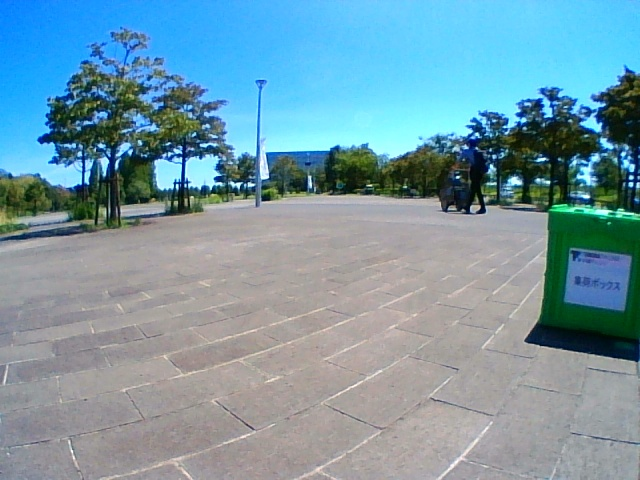green_box: (540, 204, 640, 338)
